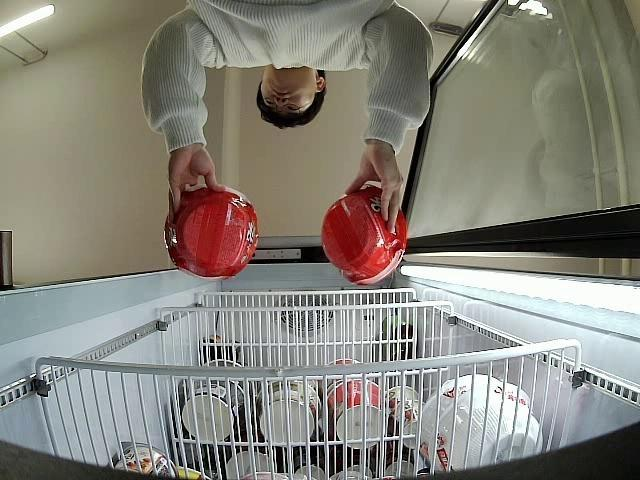10_wangTtukkeong: (164, 186, 258, 281), (321, 182, 406, 285)
